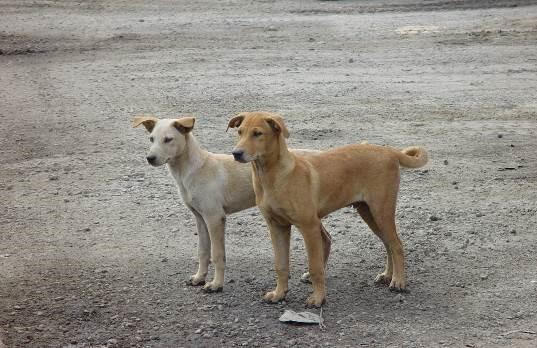normal_dogs: (226, 107, 432, 311), (130, 107, 277, 294)
